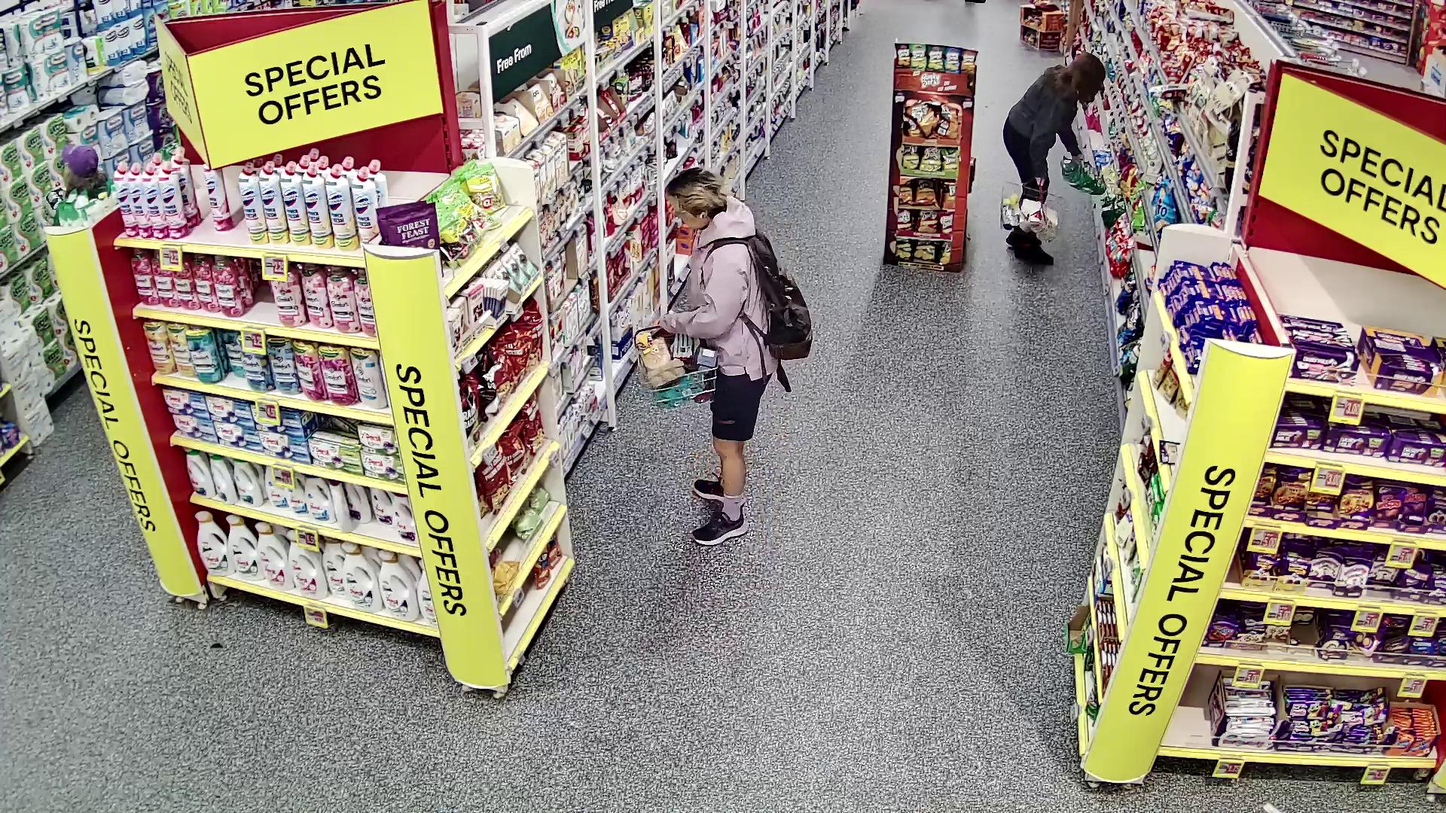backpack-or-handbag: (751, 232, 815, 361)
carrying-item: (1060, 156, 1106, 195)
filled-basket: (634, 325, 719, 411), (998, 178, 1064, 242)
person: (659, 168, 776, 547), (1002, 52, 1105, 264)
person-with-basket-trolly-and-backpack-handbag: (635, 168, 813, 547)
person-with-basket-trolly-and-carrying-item: (998, 52, 1105, 264)
